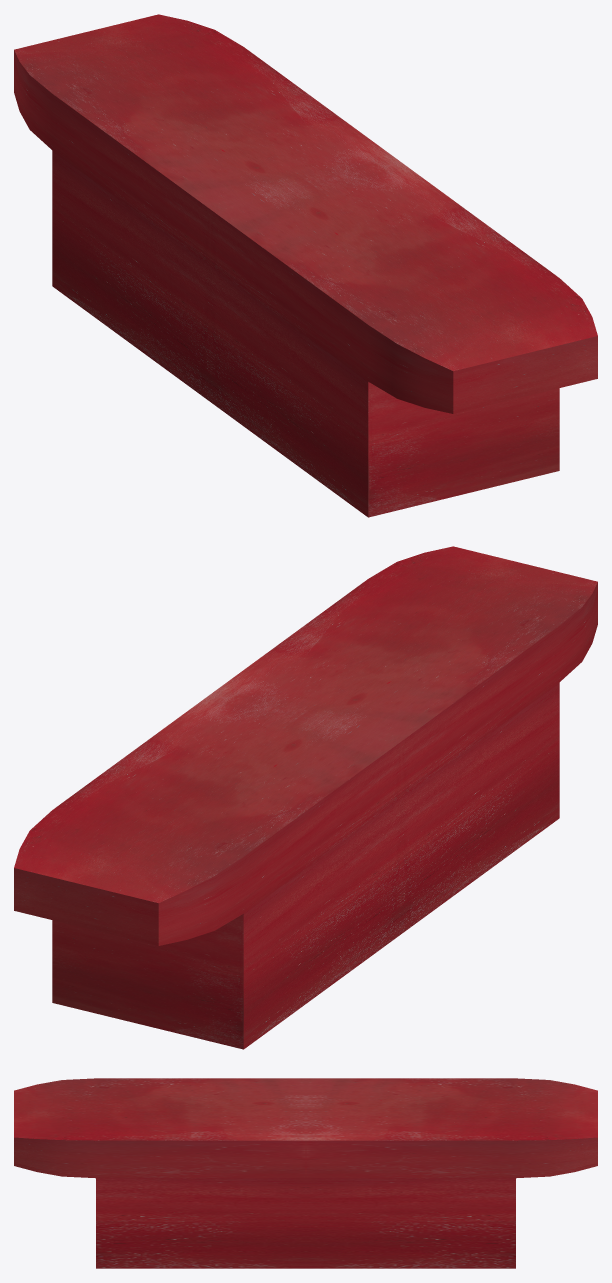
File: Silla_Comedor.fbx
3 renders of one model, top to bottom at view 1: azimuth 30°, elevation 25°; view 2: azimuth 150°, elevation 25°; view 3: azimuth 270°, elevation 25°, orthographic. The views are drawn at different scales.
Parts seen in each view (by area): view 1: silla comedor; view 2: silla comedor; view 3: silla comedor.
Boxes of the visible parts, x1,y1,x2,y2 form: silla comedor: (14, 14, 597, 517); silla comedor: (14, 546, 597, 1049); silla comedor: (14, 1078, 597, 1268).
Size of the model in its own units: 182 by 175 by 724.
